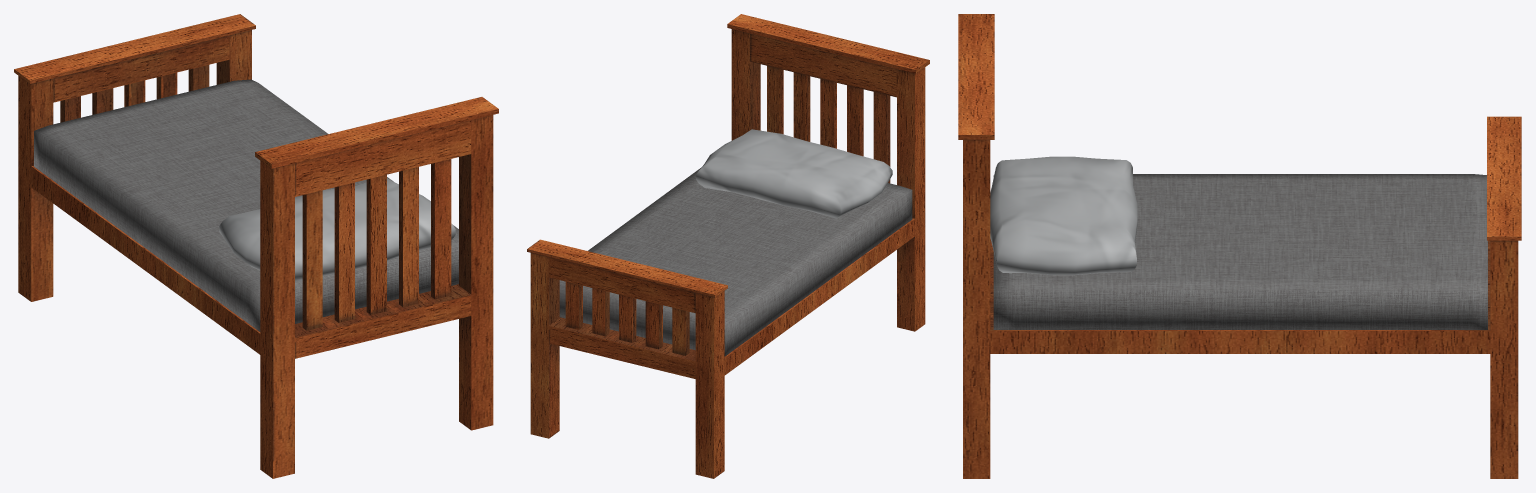
The model's file is letto.fbx.
The picture shows the model from 3 angles, left to right: view 1: azimuth 30°, elevation 25°; view 2: azimuth 150°, elevation 25°; view 3: azimuth 270°, elevation 25°; orthographic projection. The views are drawn at different scales.
Visible parts, largest first — view 1: letto, materasso, cuscino; view 2: letto, materasso, cuscino; view 3: materasso, letto, cuscino.
Part boxes in pixels (x1=…): letto: x1=14, y1=14, x2=498, y2=478; materasso: x1=34, y1=79, x2=458, y2=331; cuscino: x1=219, y1=178, x2=455, y2=281; letto: x1=527, y1=14, x2=929, y2=478; materasso: x1=559, y1=167, x2=912, y2=356; cuscino: x1=696, y1=129, x2=892, y2=218; materasso: x1=993, y1=174, x2=1487, y2=329; letto: x1=958, y1=14, x2=1521, y2=478; cuscino: x1=990, y1=156, x2=1137, y2=275.
Size of the model in its own units: 103 by 137 by 203.
